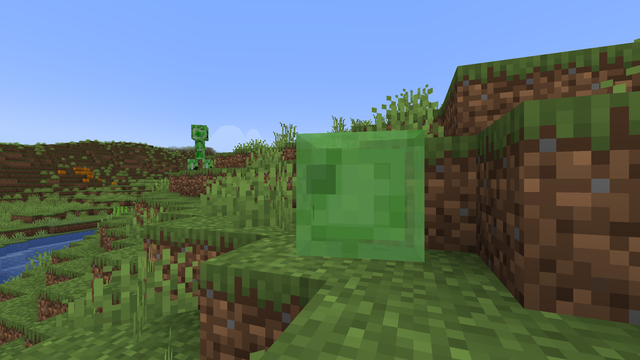creepers: (187, 122, 212, 170)
slimes: (287, 121, 416, 265)
